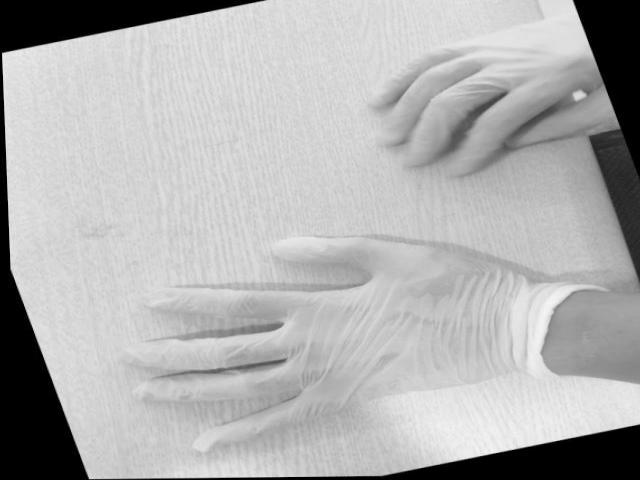gloved: (129, 237, 501, 457), (362, 9, 622, 172)
